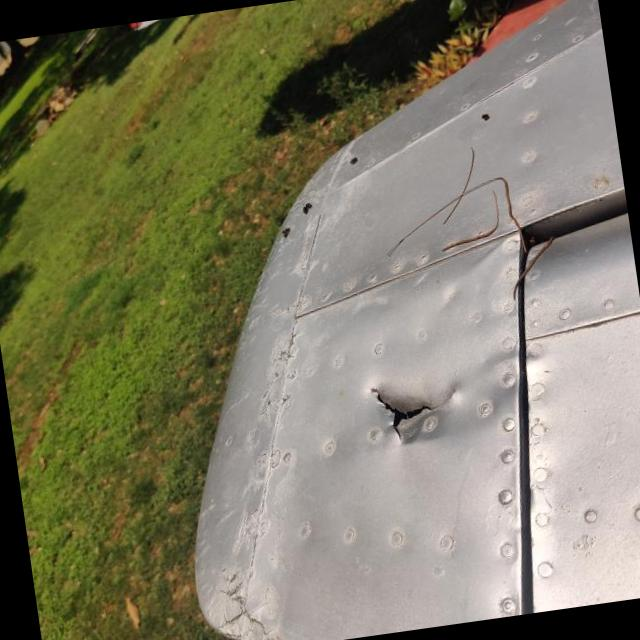Crack: (372, 373, 460, 443)
